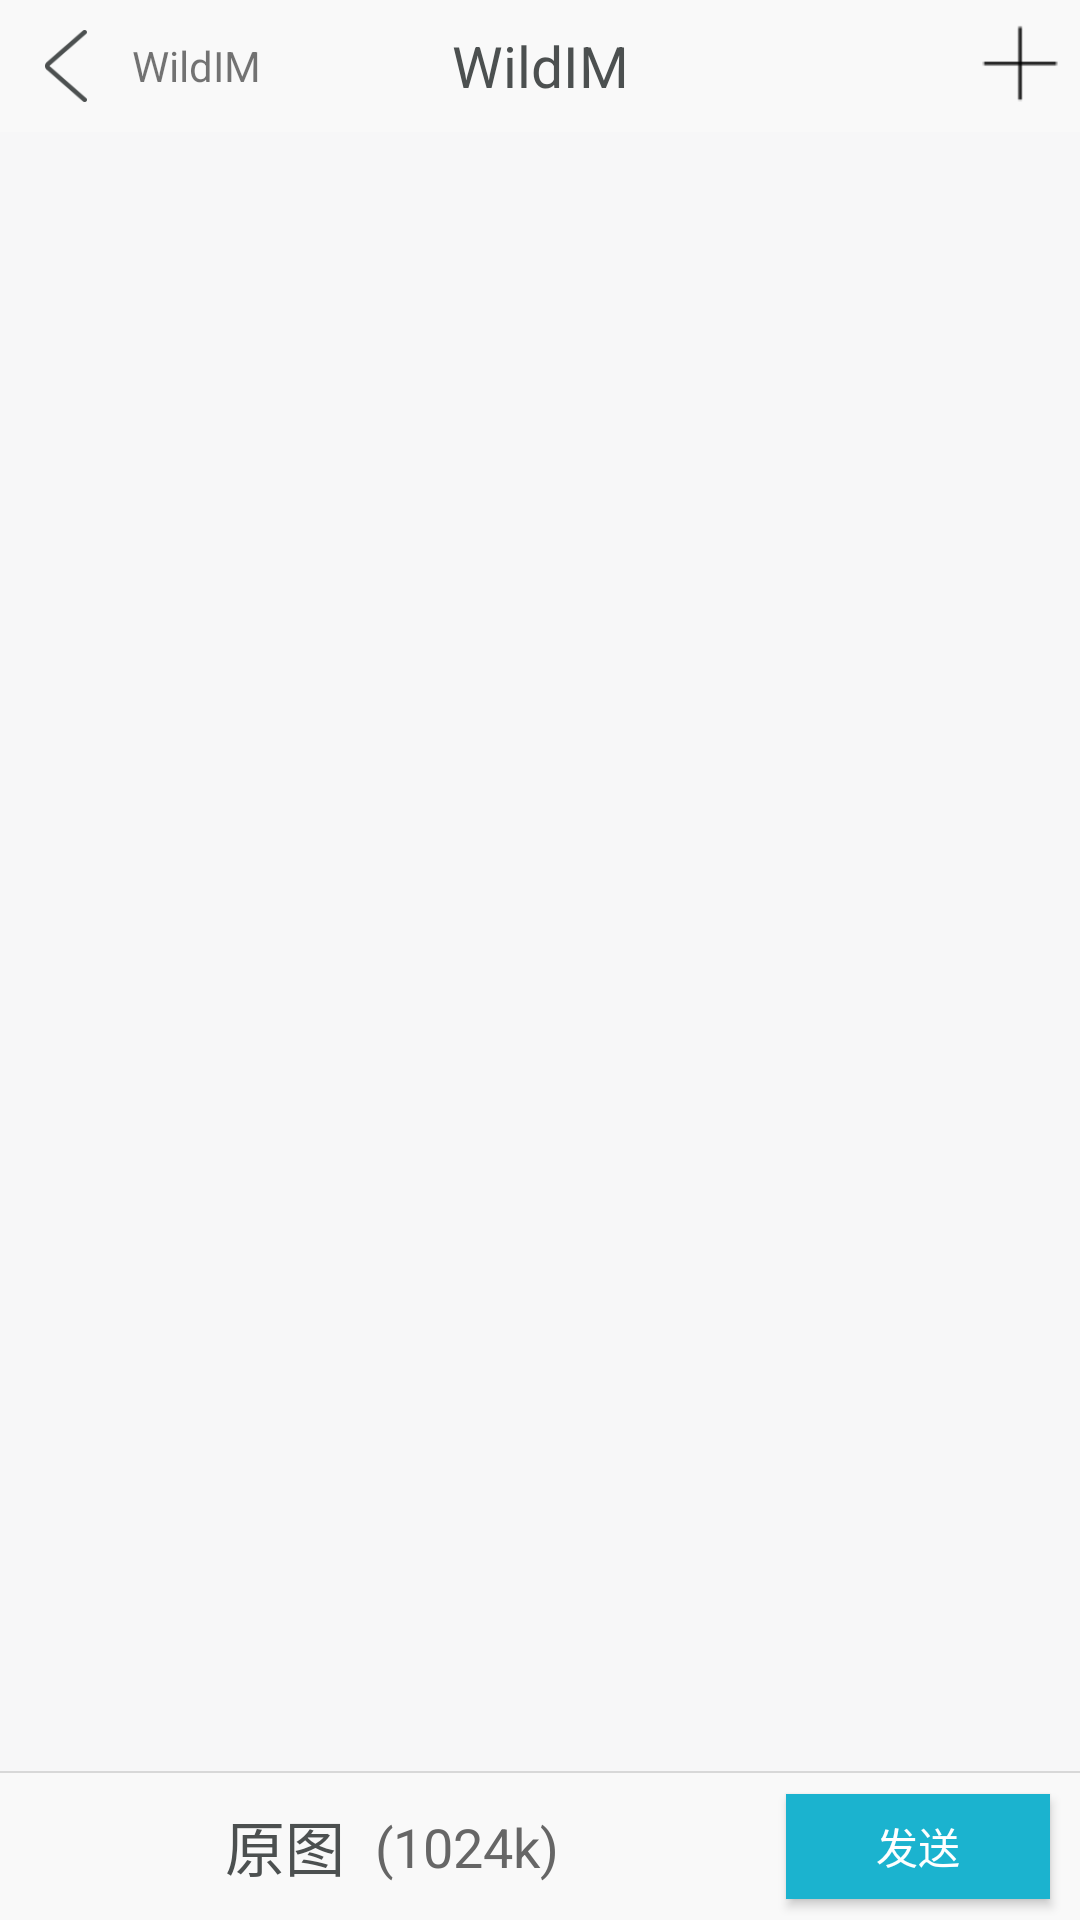

Named icons in this screenshot (1080*1920) and their bounding boxes, (x1, y1, x2, y2):
addbutton: (982, 26, 1058, 101)
